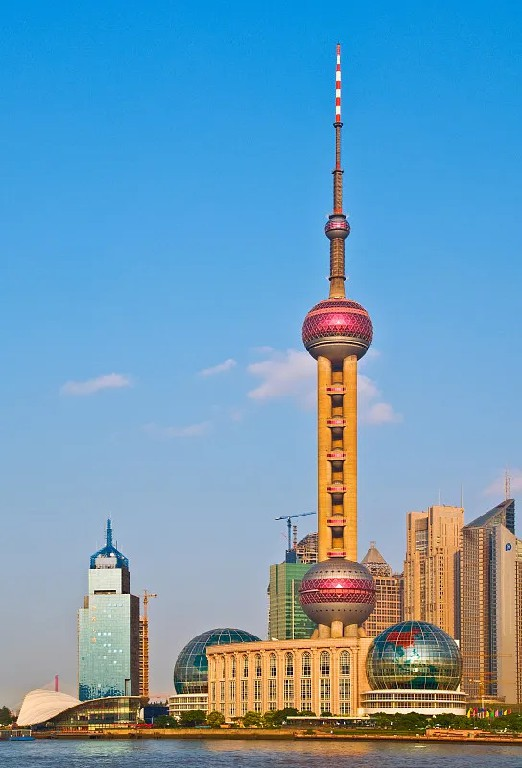Oriental: (299, 42, 375, 637)
